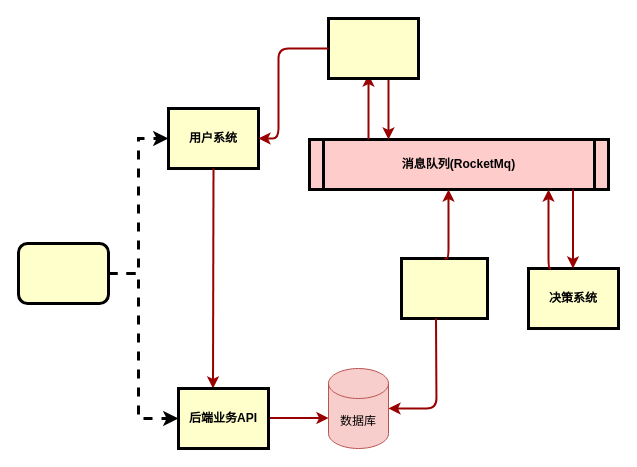
This 637x467 diagram has some shape labels left out. The shapes that lost their labels are listed below. From the top down, each one's centre as x and y in pixels, then its label:
At (373,48): "信号模块".
At (63,273): "前端App".
At (444,288): "爬虫模块".
